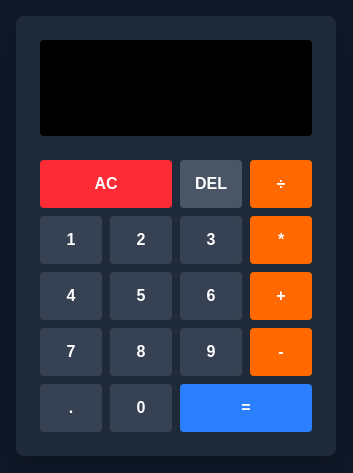
Test: Calculator › handles division
This screenshot has width=353, height=473.
Click the button "8" at (141, 352), box [110,328,172,376]
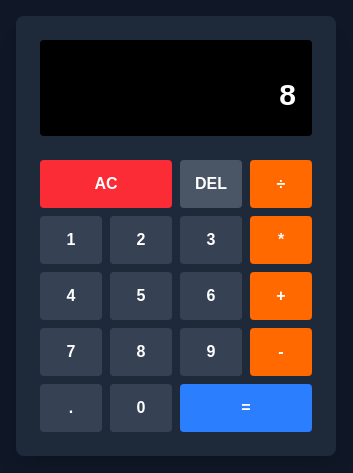
Click the button "÷" at (281, 184), box [250,160,312,208]
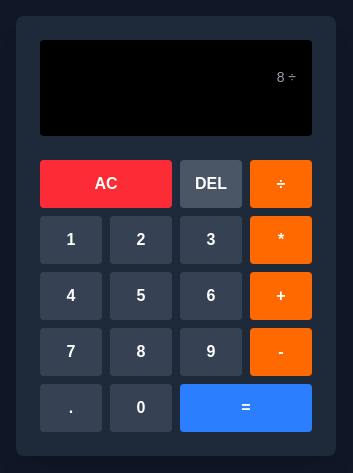
Click the button "2" at (141, 240), box [110,216,172,264]
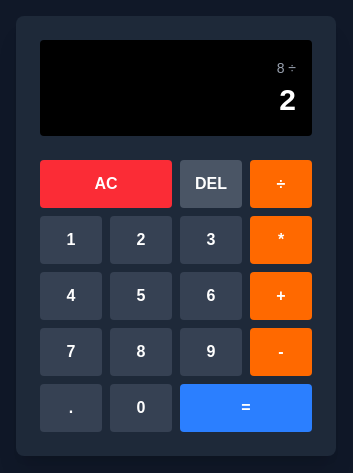
Click the button "=" at (246, 408), box [180,384,312,432]
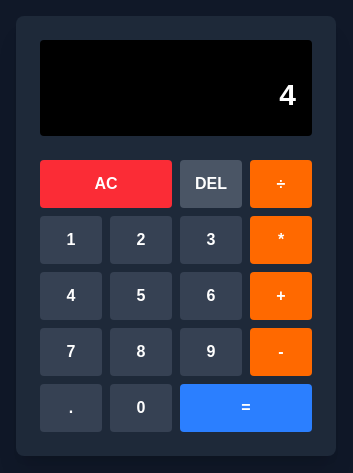
Check: the text with test id "current-operand" reads "4", box [279,78,296,111]
